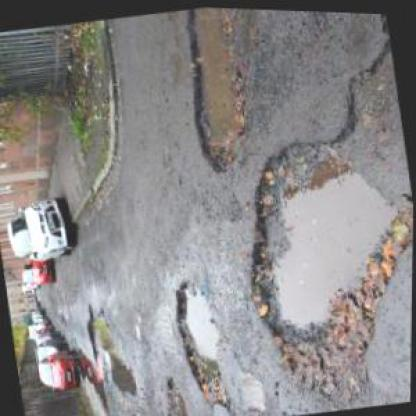pothole: (222, 112, 413, 406), (172, 6, 263, 176), (166, 272, 238, 416), (82, 298, 118, 361), (102, 350, 142, 400)
